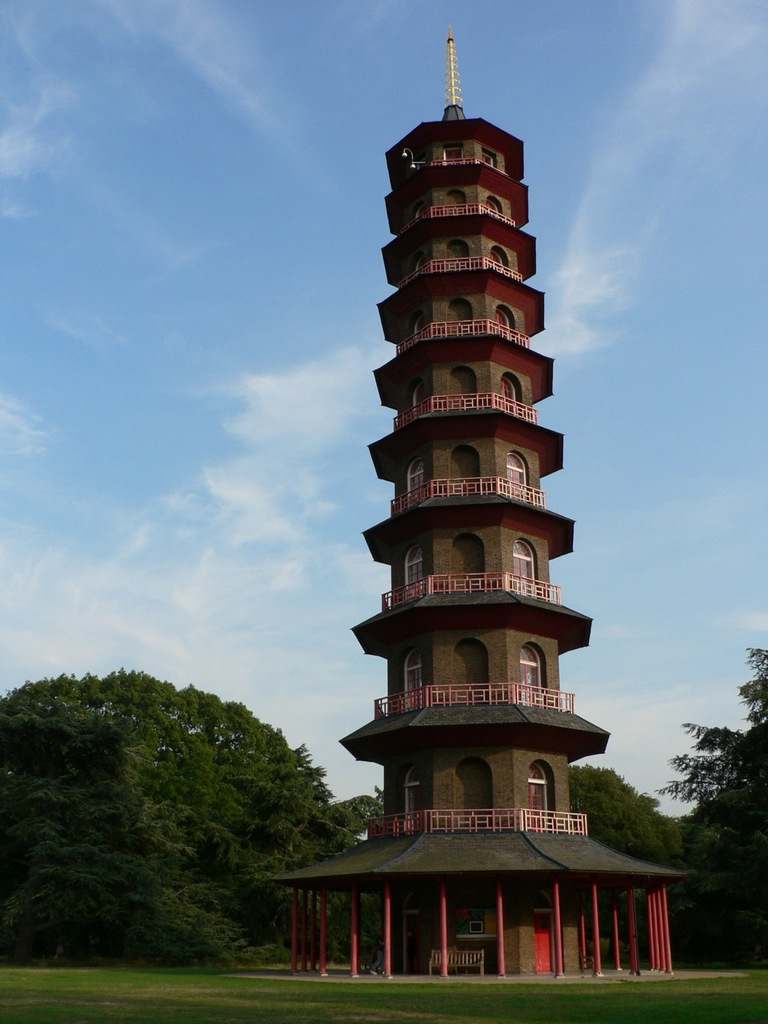Tree: (0, 665, 381, 966), (568, 648, 768, 961)
